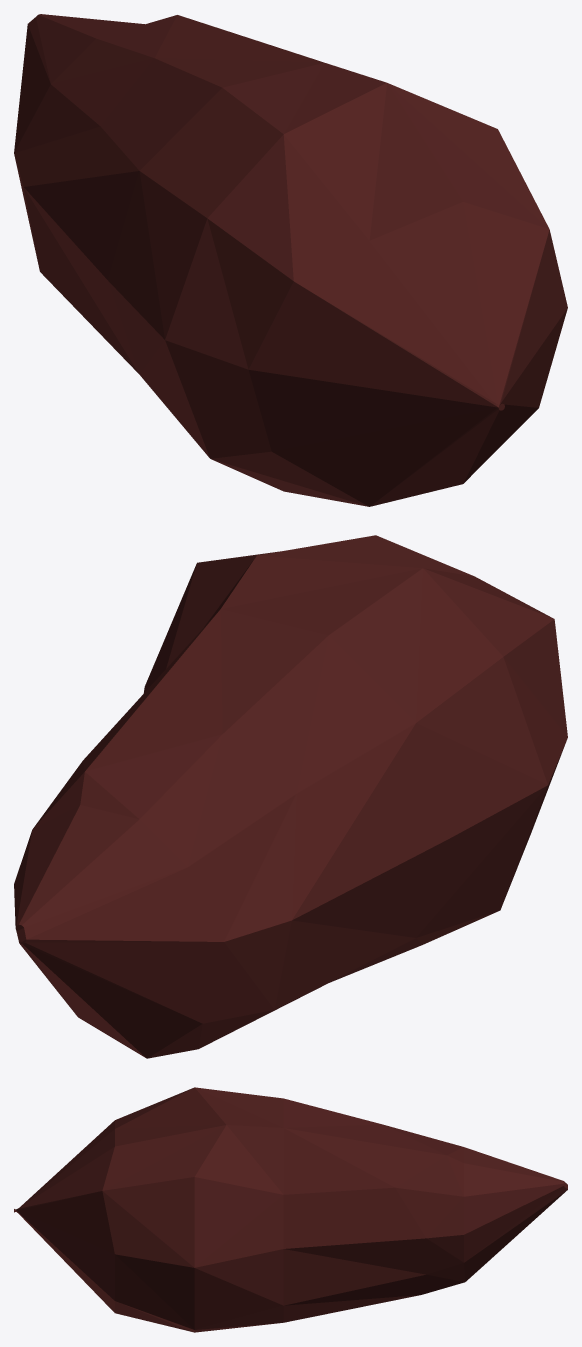
File: SweetPotato1.fbx
The picture shows the model from 3 angles, top to bottom: view 1: azimuth 30°, elevation 25°; view 2: azimuth 150°, elevation 25°; view 3: azimuth 270°, elevation 25°; orthographic projection. The views are drawn at different scales.
Parts seen in each view (by area): view 1: Cylinder.001; view 2: Cylinder.001; view 3: Cylinder.001.
Boxes of the visible parts, x1,y1,x2,y2 form: Cylinder.001: [14, 14, 567, 506]; Cylinder.001: [14, 535, 567, 1058]; Cylinder.001: [14, 1087, 567, 1332].
Bounding box in the file's own units: 91.66 × 81.78 × 195.
